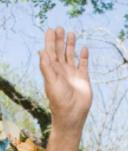down: (35, 24, 94, 124)
